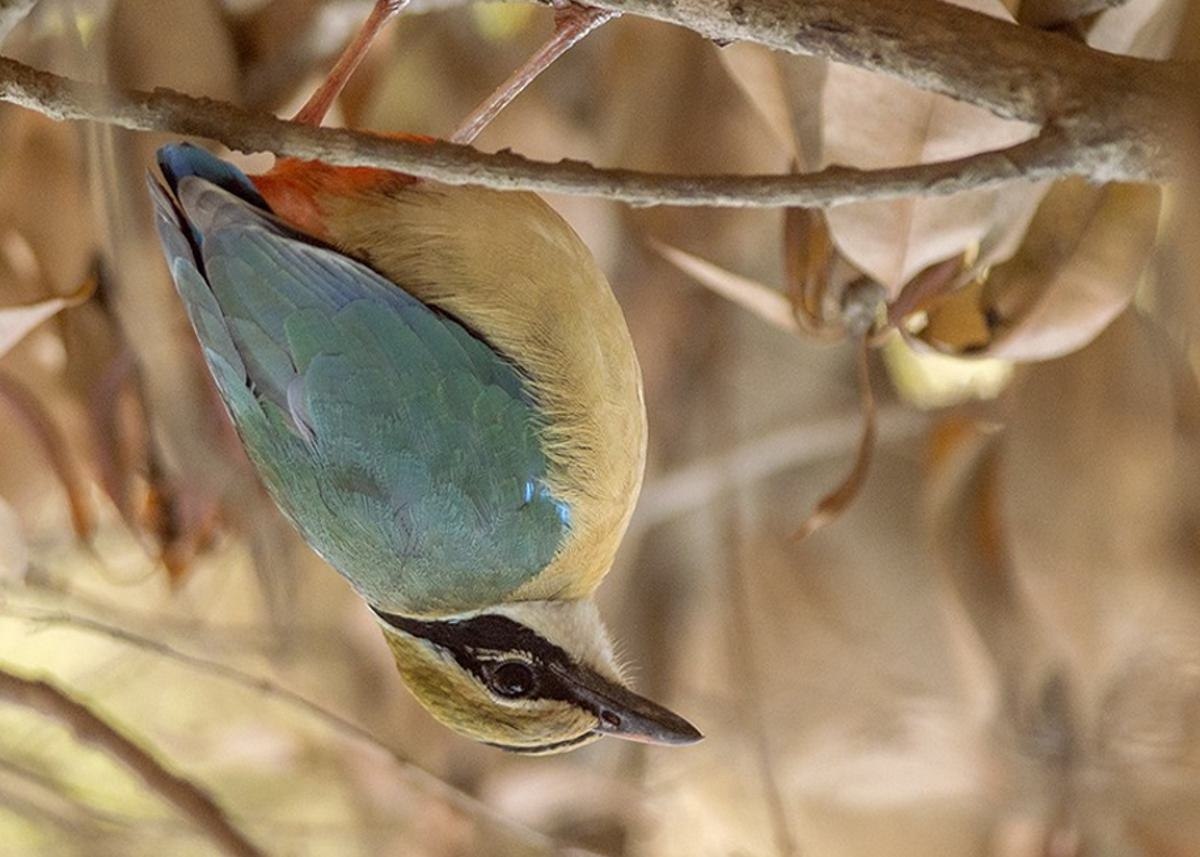pitta: (183, 76, 725, 774)
